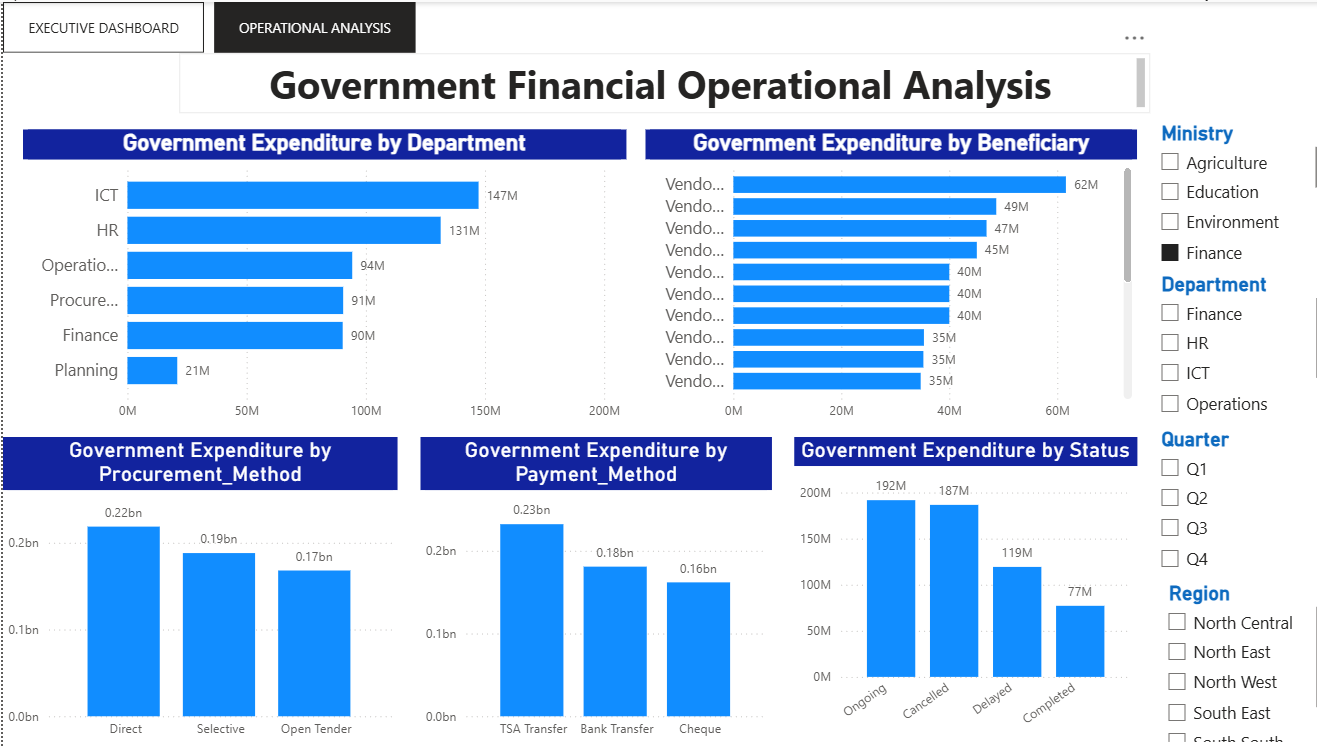

This screenshot's page, from the dashboard's own definition file:
{"tool":"powerbi","page":{"name":"OPERATIONAL ANALYSIS","canvas":[1280,720],"ordinal":1},"visuals":[{"type":"textbox","box":[170.6,49.7,937.1,58.3],"z":0},{"type":"clusteredBarChart","title":"Government Expenditure  by Department","fields":{"Category":["Fact_Government_Expenditure.Department"],"Y":["Sum(Fact_Government_Expenditure. Amount_NGN )"]},"box":[19.1,123,582.1,289.3],"z":1000},{"type":"clusteredBarChart","title":"Government Expenditure  by Beneficiary","fields":{"Category":["Fact_Government_Expenditure.Beneficiary"],"Y":["Sum(Fact_Government_Expenditure. Amount_NGN )"]},"box":[620.3,123,474.7,289.3],"z":2000},{"type":"clusteredColumnChart","title":"Government Expenditure by Procurement_Method","fields":{"Category":["Fact_Government_Expenditure.Procurement_Method"],"Y":["Sum(Fact_Government_Expenditure. Amount_NGN )"]},"box":[0,420.3,381.2,299.7],"z":3000},{"type":"clusteredColumnChart","title":"Government Expenditure by Payment_Method","fields":{"Y":["Sum(Fact_Government_Expenditure. Amount_NGN )"],"Category":["Fact_Government_Expenditure.Payment_Method"]},"box":[402.8,420.3,339.6,299.7],"z":4000},{"type":"clusteredColumnChart","title":"Government Expenditure  by Status","fields":{"Y":["Sum(Fact_Government_Expenditure. Amount_NGN )"],"Category":["Fact_Government_Expenditure.Status"]},"box":[764.1,420.3,330.9,299.7],"z":5000},{"type":"slicer","fields":{"Values":["Fact_Government_Expenditure.Ministry"]},"box":[1105.4,110.9,175,145.5],"z":6000},{"type":"slicer","fields":{"Values":["Fact_Government_Expenditure.Department"]},"box":[1105,257,175,150],"z":7000},{"type":"slicer","fields":{"Values":["Fact_Government_Expenditure.Quarter"]},"box":[1105.4,407.1,175,150.7],"z":8000},{"type":"slicer","fields":{"Values":["Fact_Government_Expenditure.Region"]},"box":[1112,554.9,168.4,164.1],"z":9000},{"type":"pageNavigator","box":[0,0,399.5,49.7],"z":10000}]}

Visuals, with their boxes on the page's 1280x720 design canvas (x1, y1, x2, y2). These are canvas units, not pixel positions in the 1317x748 screenshot, which may show the page scaled, cropped or inside an application window:
textbox: x1=171, y1=50, x2=1108, y2=108
"Government Expenditure  by Department" clusteredBarChart: x1=19, y1=123, x2=601, y2=412
"Government Expenditure  by Beneficiary" clusteredBarChart: x1=620, y1=123, x2=1095, y2=412
"Government Expenditure by Procurement_Method" clusteredColumnChart: x1=0, y1=420, x2=381, y2=720
"Government Expenditure by Payment_Method" clusteredColumnChart: x1=403, y1=420, x2=742, y2=720
"Government Expenditure  by Status" clusteredColumnChart: x1=764, y1=420, x2=1095, y2=720
slicer - Fact_Government_Expenditure.Ministry: x1=1105, y1=111, x2=1280, y2=256
slicer - Fact_Government_Expenditure.Department: x1=1105, y1=257, x2=1280, y2=407
slicer - Fact_Government_Expenditure.Quarter: x1=1105, y1=407, x2=1280, y2=558
slicer - Fact_Government_Expenditure.Region: x1=1112, y1=555, x2=1280, y2=719
pageNavigator: x1=0, y1=0, x2=400, y2=50
